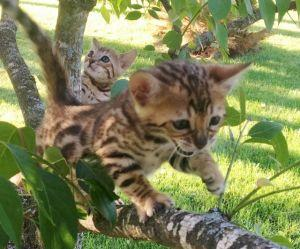bengal: (125, 54, 253, 164)
